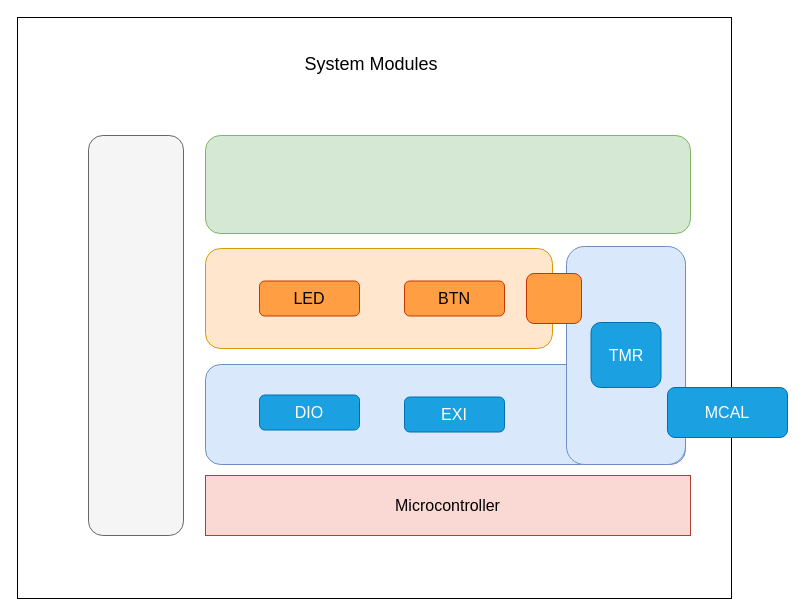
Image size: 805x616. Some labels were removed from this diagram. The centre of each missing label's shape, as x and y in pixels:
Application Layer: the point at 447,184
HAL: the point at 554,298
Library: the point at 136,335
